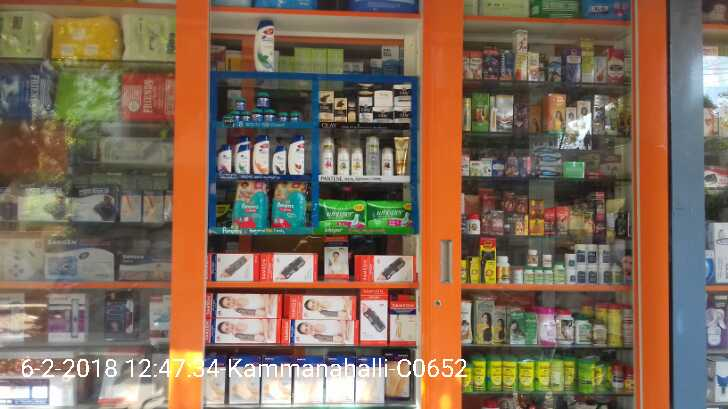beauty: (287, 132, 308, 175), (251, 133, 271, 173), (317, 131, 335, 175), (392, 137, 409, 177), (233, 133, 250, 171), (365, 135, 379, 175), (271, 144, 289, 173), (318, 89, 335, 119), (215, 144, 232, 173), (337, 140, 351, 174), (392, 103, 413, 123), (381, 146, 395, 175), (392, 84, 412, 103), (358, 101, 374, 123), (350, 147, 363, 173), (254, 88, 270, 109), (357, 84, 374, 102), (374, 105, 393, 121), (335, 96, 347, 120), (345, 102, 358, 123), (232, 94, 245, 111)
pharmacy: (232, 178, 269, 229), (272, 179, 306, 230), (316, 200, 367, 232), (367, 202, 413, 232)
